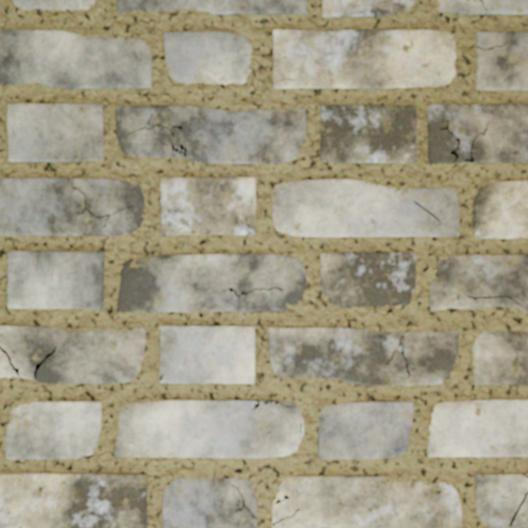brick: (268, 327, 458, 385), (114, 400, 303, 457), (116, 106, 305, 163), (273, 29, 455, 88), (118, 254, 305, 311), (272, 179, 458, 236), (272, 475, 461, 527), (0, 30, 151, 88), (0, 325, 145, 383), (0, 178, 143, 235), (0, 472, 146, 527), (428, 104, 527, 162), (427, 399, 527, 456), (7, 103, 103, 161), (160, 177, 255, 235), (429, 254, 527, 310), (320, 105, 416, 162), (7, 251, 103, 308), (6, 401, 101, 458), (160, 326, 254, 383), (318, 401, 412, 458), (320, 252, 415, 307), (162, 477, 256, 527), (164, 31, 252, 84), (472, 181, 527, 238), (472, 330, 527, 384), (476, 32, 527, 90), (475, 473, 527, 527), (116, 0, 306, 14), (322, 0, 415, 17), (437, 0, 527, 14), (12, 0, 94, 10), (512, 499, 527, 527), (0, 352, 16, 377)
crack: (126, 112, 187, 157), (439, 118, 488, 162), (231, 484, 257, 519), (508, 491, 527, 527), (0, 345, 20, 376), (271, 507, 300, 526), (251, 399, 293, 411), (466, 0, 487, 11), (476, 43, 507, 50), (274, 494, 289, 505), (272, 77, 295, 84), (159, 373, 164, 381), (521, 473, 527, 478)
